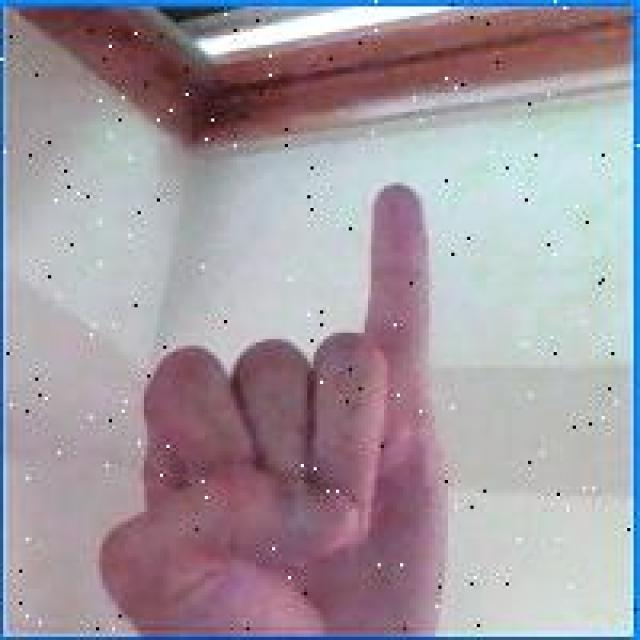I: (93, 177, 451, 628)
